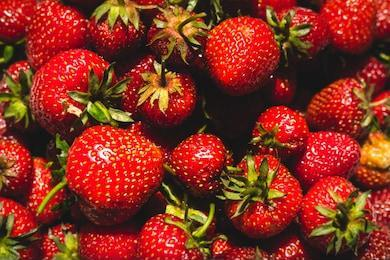Fresa: (63, 121, 167, 230), (25, 47, 125, 145), (220, 150, 305, 242), (202, 11, 288, 101), (296, 172, 377, 256), (166, 130, 239, 200), (305, 74, 375, 144), (293, 126, 364, 189), (132, 209, 211, 260), (277, 5, 334, 66)
